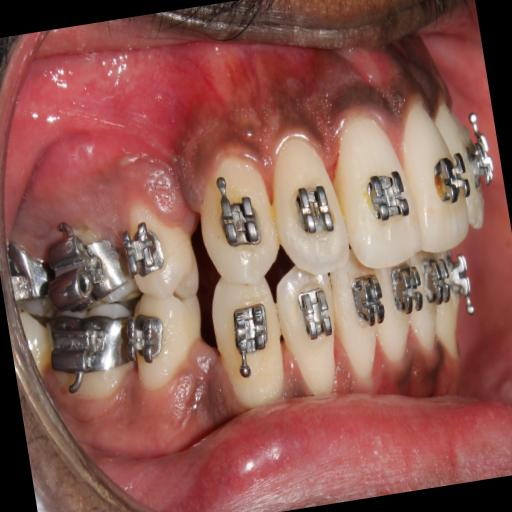correct_brace: (116, 192, 202, 304), (124, 289, 208, 391), (209, 168, 265, 256), (225, 296, 280, 384), (360, 156, 413, 234), (289, 176, 338, 246), (294, 282, 336, 349), (129, 310, 169, 365)
incorrect_brace: (265, 132, 351, 276), (274, 268, 346, 398), (122, 219, 168, 284)
